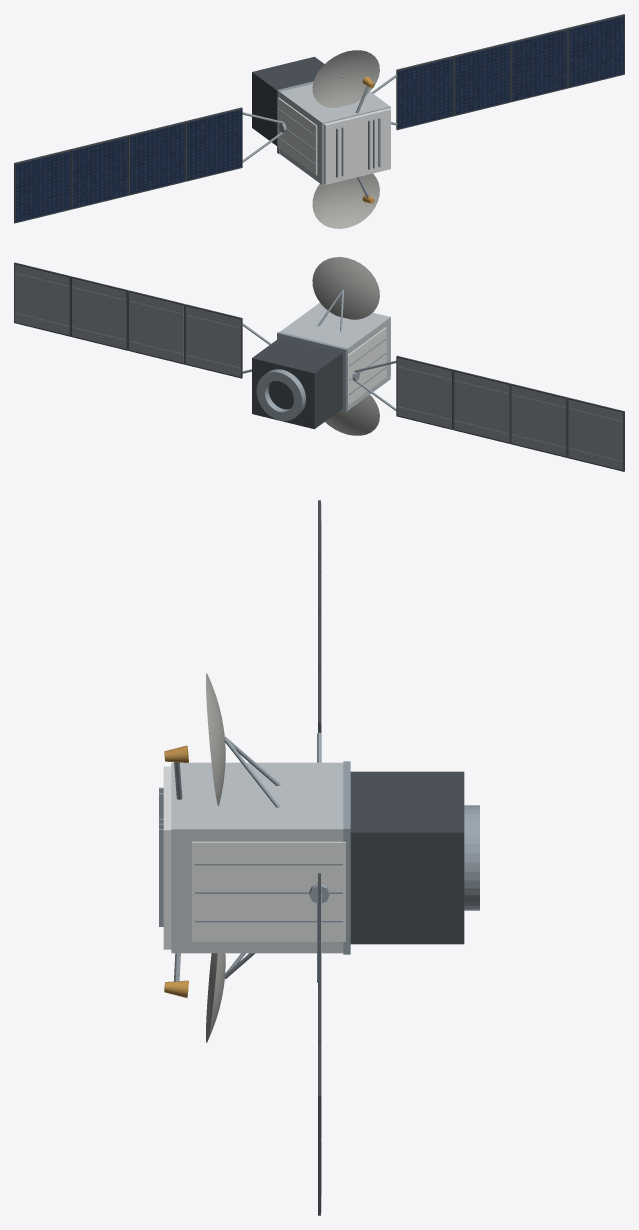
File: ref-geostar-2-40664.glb
3 views of the same model, one above another, from view 1: azimuth 30°, elevation 25°; view 2: azimuth 150°, elevation 25°; view 3: azimuth 270°, elevation 25° (orthographic). The views are drawn at different scales.
Parts seen in each view (by area): view 1: Solar cell panel (×8), Communications reflector (×2), Earth-facing deck, Solar panel frame (×8), Service module, Payload module, Radiator face; view 2: Rear array substrate (×8), Service module, Communications reflector (×2), Solar panel frame (×8), Payload module, Radiator face, Launch adapter ring, Module interface; view 3: Service module, Payload module, Radiator face, Communications reflector (×2), Launch adapter ring, Earth-facing deck, Module interface.
Boxes of the visible parts, x1,y1,x2,y2 form: Solar cell panel (×8): (15, 16, 624, 221); Communications reflector (×2): (312, 50, 379, 228); Earth-facing deck: (323, 108, 390, 184); Solar panel frame (×8): (14, 14, 624, 223); Service module: (252, 56, 324, 145); Payload module: (279, 83, 390, 184); Radiator face: (277, 97, 317, 175); Rear array substrate (×8): (14, 264, 623, 470); Service module: (252, 337, 342, 429); Communications reflector (×2): (312, 257, 379, 435); Solar panel frame (×8): (14, 262, 624, 471); Payload module: (280, 303, 390, 410); Radiator face: (347, 327, 386, 405); Launch adapter ring: (256, 369, 305, 420); Module interface: (277, 332, 347, 412); Service module: (350, 771, 464, 944); Payload module: (171, 762, 343, 953); Radiator face: (192, 841, 345, 941); Communications reflector (×2): (206, 673, 225, 1042); Launch adapter ring: (464, 805, 479, 910); Earth-facing deck: (163, 766, 171, 949); Module interface: (343, 761, 350, 954).
Size of the model in its own units: 22.38 by 6.19 by 5.09.
Materials: 8 (1 with a texture image).
